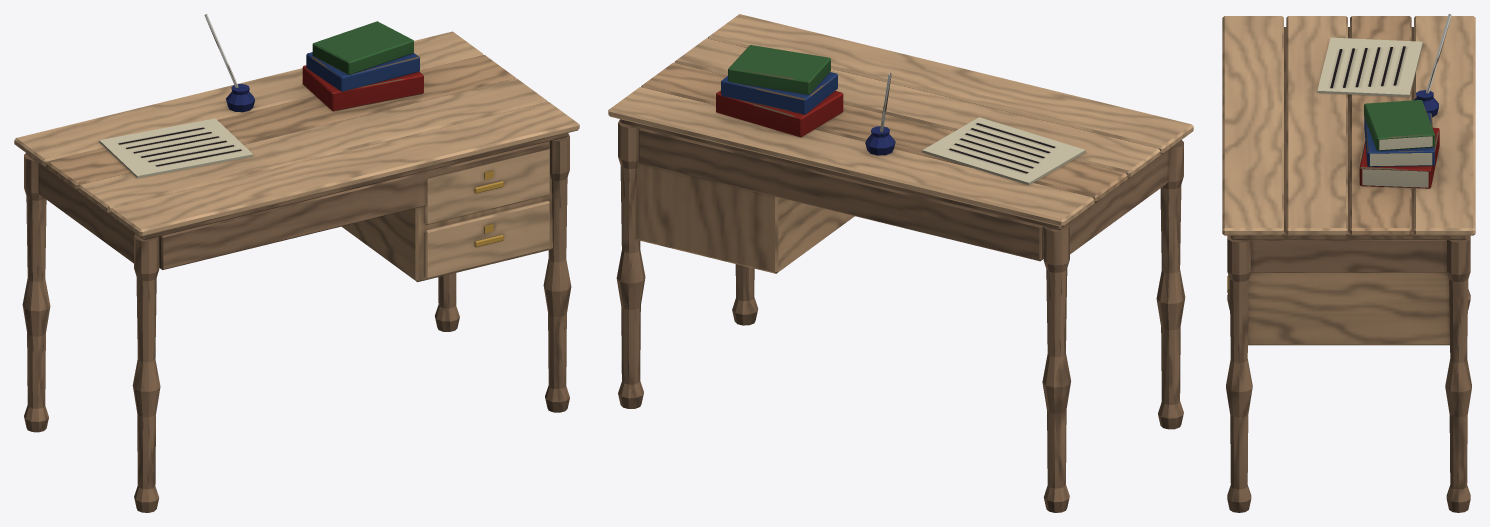
Rendered from desk_tex.glb.
3 views of the same model, side by side, from view 1: azimuth 30°, elevation 25°; view 2: azimuth 150°, elevation 25°; view 3: azimuth 270°, elevation 25° (orthographic). The views are drawn at different scales.
Visible parts, largest first — view 1: desk; view 2: desk; view 3: desk.
Boxes of the visible parts, box(x1,y1,x2,y2) form: desk: box(14, 14, 579, 512); desk: box(608, 14, 1193, 512); desk: box(1222, 14, 1475, 512).
Size of the model in its own units: 1.2 by 0.9811 by 0.6.
Materials: 11 (11 with a texture image).
